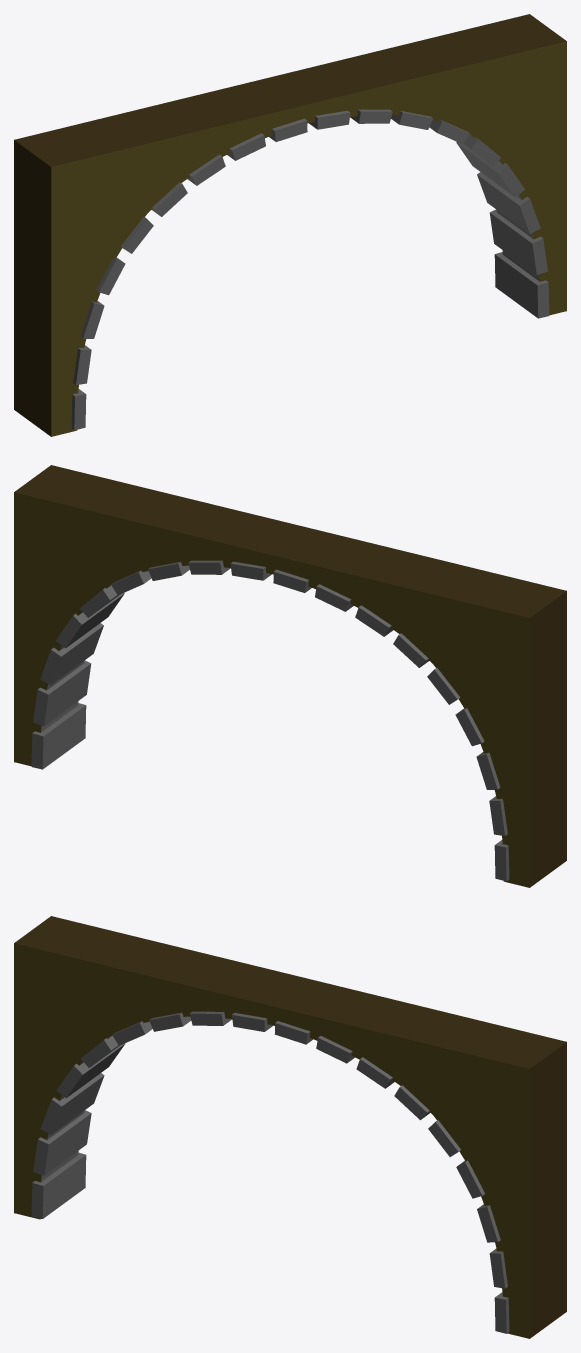
File: WallHalfArc.fbx
3 views of the same model, one above another, from view 1: azimuth 30°, elevation 25°; view 2: azimuth 150°, elevation 25°; view 3: azimuth 330°, elevation 25° (orthographic).
Parts seen in each view (by area): view 1: WallHalfArc; view 2: WallHalfArc; view 3: WallHalfArc.
Boxes of the visible parts, left/top/right/bottom form: WallHalfArc: left=14, top=14, right=566, bottom=436; WallHalfArc: left=14, top=465, right=566, bottom=887; WallHalfArc: left=14, top=916, right=566, bottom=1338.
Bounding box in the file's own units: 400 × 200 × 57.48.
